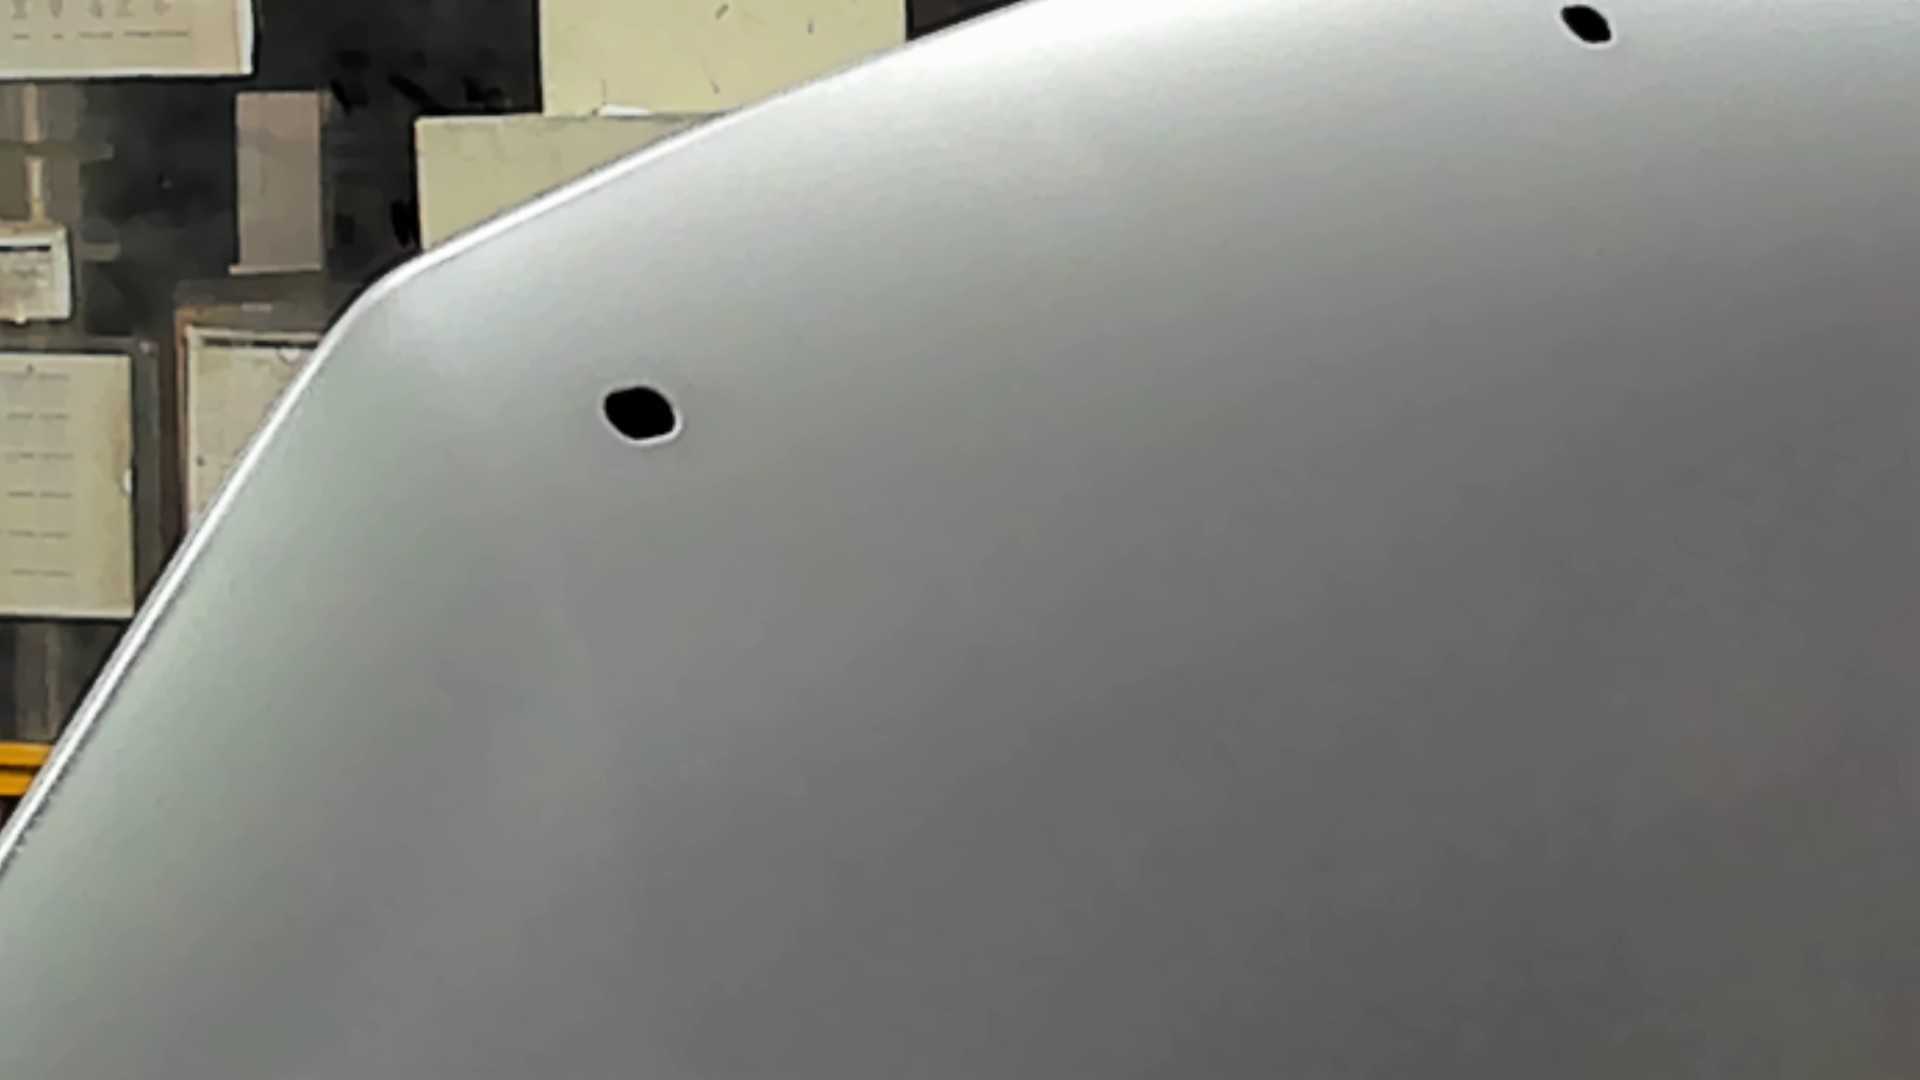amorfo: (595, 378, 694, 451), (1547, 1, 1614, 53)
